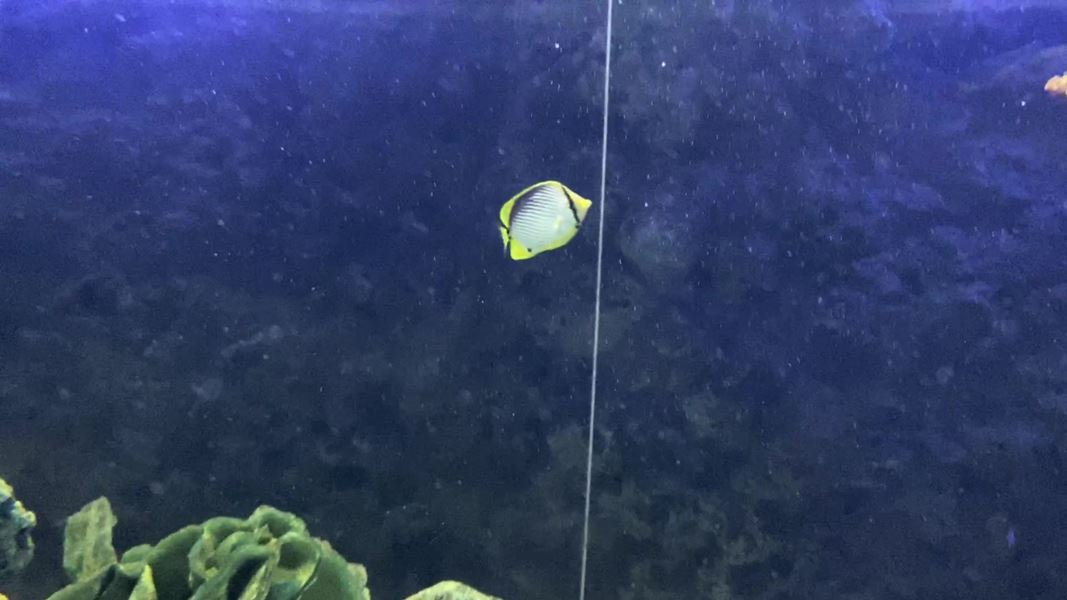Black-backed butterflyfish: (487, 170, 600, 270)
